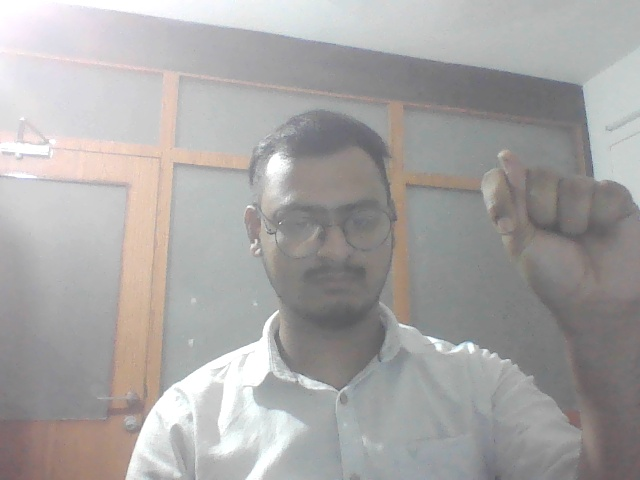Toilet: (481, 145, 640, 324)
